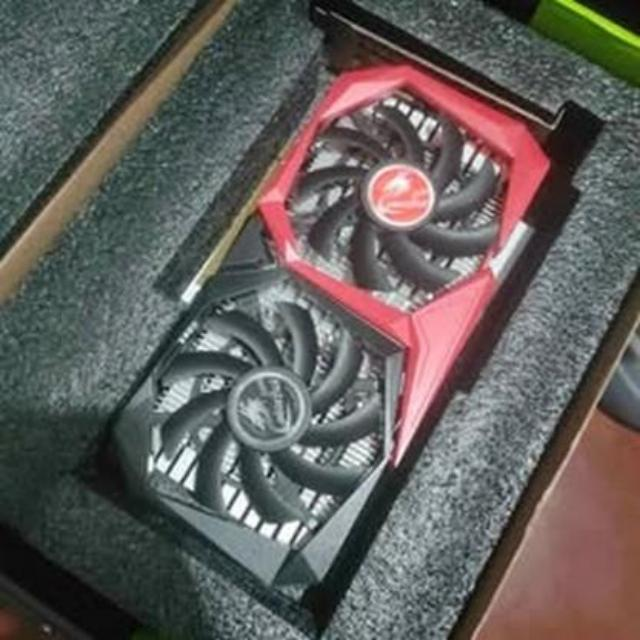GPU: (108, 49, 560, 612)
